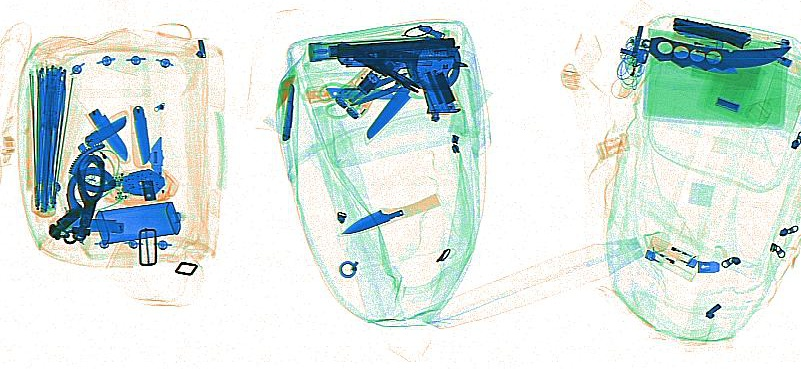handcuffs: (47, 143, 116, 244), (402, 23, 461, 91)
knife: (362, 31, 458, 144), (641, 36, 791, 71), (339, 192, 441, 235), (352, 49, 420, 93), (670, 14, 752, 49), (84, 107, 131, 164), (670, 49, 743, 80), (83, 109, 129, 146), (128, 103, 151, 168), (62, 212, 125, 232), (280, 81, 295, 142)
lighter: (643, 243, 697, 281), (648, 232, 700, 267), (667, 33, 724, 57), (618, 51, 643, 98), (760, 45, 799, 75), (738, 28, 790, 50)
scissors: (317, 71, 408, 119), (348, 59, 434, 107)
zippooil: (93, 200, 181, 244)
